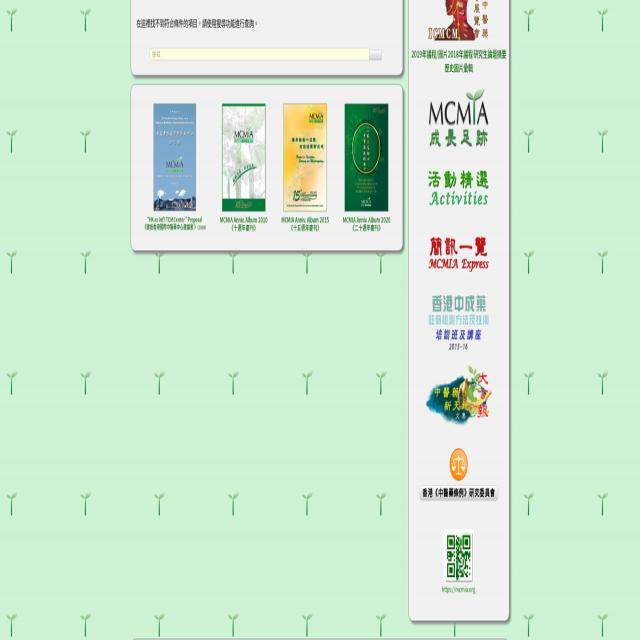button: (222, 104, 266, 212), (283, 104, 327, 212), (153, 104, 196, 212), (345, 104, 388, 212), (426, 363, 492, 428), (429, 88, 489, 148), (429, 294, 489, 350), (429, 0, 489, 43), (429, 170, 489, 207), (429, 236, 489, 272), (444, 530, 474, 584), (419, 486, 498, 502), (450, 449, 468, 482), (369, 50, 382, 61)
field: (150, 48, 372, 60)
